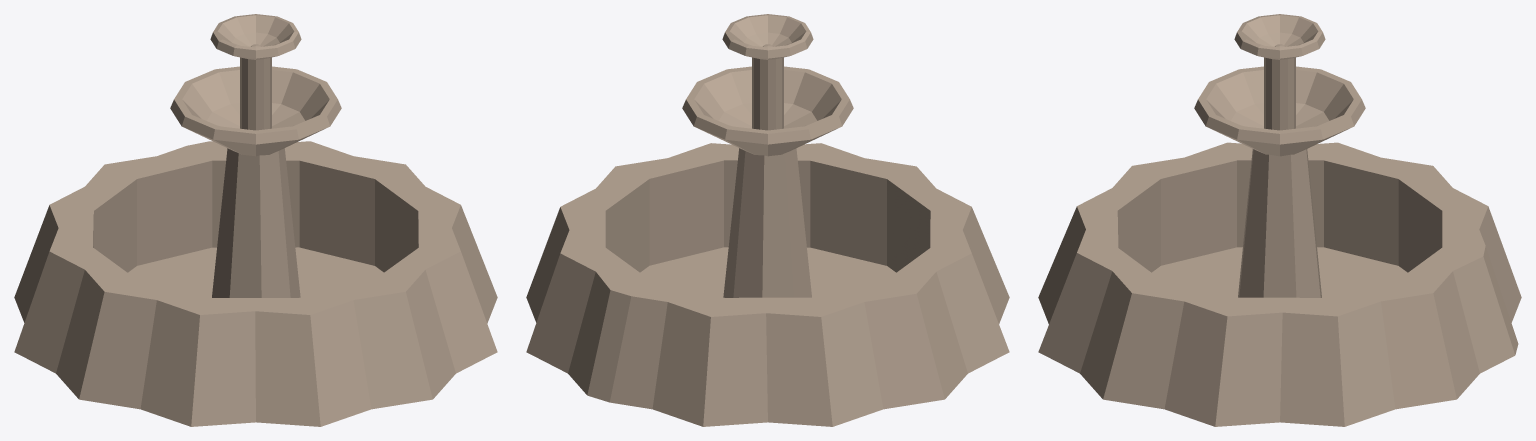
File: LP_Fountain_H_Col.fbx
3 views of the same model, side by side, from view 1: azimuth 30°, elevation 25°; view 2: azimuth 150°, elevation 25°; view 3: azimuth 270°, elevation 25° (orthographic).
Visible parts, largest first — view 1: LP_Fountain_H_Col; view 2: LP_Fountain_H_Col; view 3: LP_Fountain_H_Col.
Boxes of the visible parts, <box> form: LP_Fountain_H_Col: <box>14,14,497,426</box>; LP_Fountain_H_Col: <box>526,14,1009,426</box>; LP_Fountain_H_Col: <box>1038,14,1521,426</box>.
Size of the model in its own units: 471 by 316 by 471.
